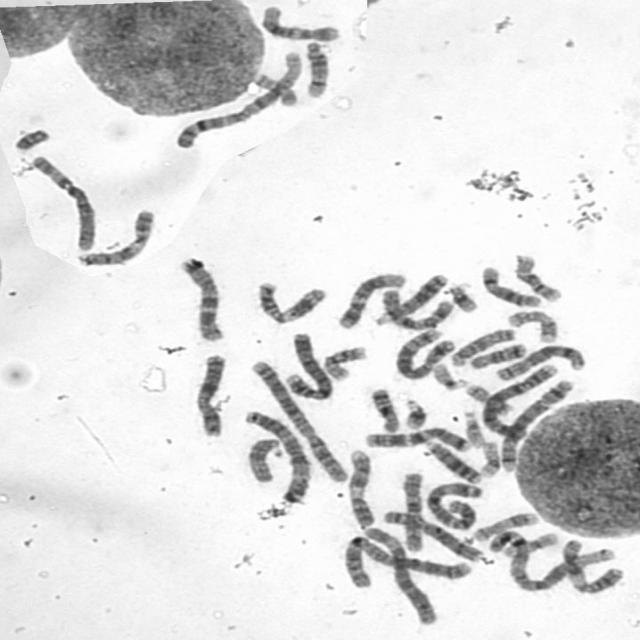A1: (167, 44, 305, 150), (494, 526, 625, 594)
A2: (244, 355, 350, 483), (334, 530, 475, 588)
A3: (238, 406, 314, 504), (419, 476, 484, 532)
B4: (476, 358, 561, 441), (279, 327, 335, 401)
B5: (496, 374, 576, 473), (390, 324, 457, 381)
C10: (382, 287, 453, 331), (396, 467, 427, 554)
C11: (555, 534, 626, 596), (250, 276, 329, 326)
C12: (332, 266, 409, 330), (254, 0, 343, 42)
C6: (357, 522, 441, 626), (25, 149, 99, 253)
C7: (173, 252, 226, 343), (358, 422, 474, 452)
C8: (377, 506, 486, 564), (489, 339, 588, 382)
C9: (70, 204, 157, 268), (340, 444, 378, 529)
D13: (370, 268, 450, 327), (419, 435, 485, 485)
D14: (475, 260, 544, 309), (298, 36, 332, 98)
D15: (445, 322, 517, 368), (240, 434, 284, 484)
E16: (507, 249, 565, 303), (316, 340, 369, 382)
E17: (467, 507, 540, 542), (501, 305, 561, 344)
E18: (464, 337, 530, 370), (365, 382, 402, 433)
F19: (499, 528, 571, 562), (474, 435, 503, 478)
F20: (247, 68, 301, 107), (460, 379, 515, 416)
G21: (443, 277, 480, 314), (398, 393, 430, 431)
G22: (426, 359, 469, 391), (457, 404, 487, 448)
X: (188, 349, 230, 439)
Y: (8, 123, 53, 152)
